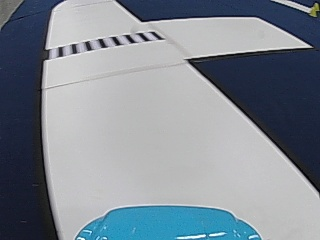CrossWalk: (52, 29, 161, 57)
